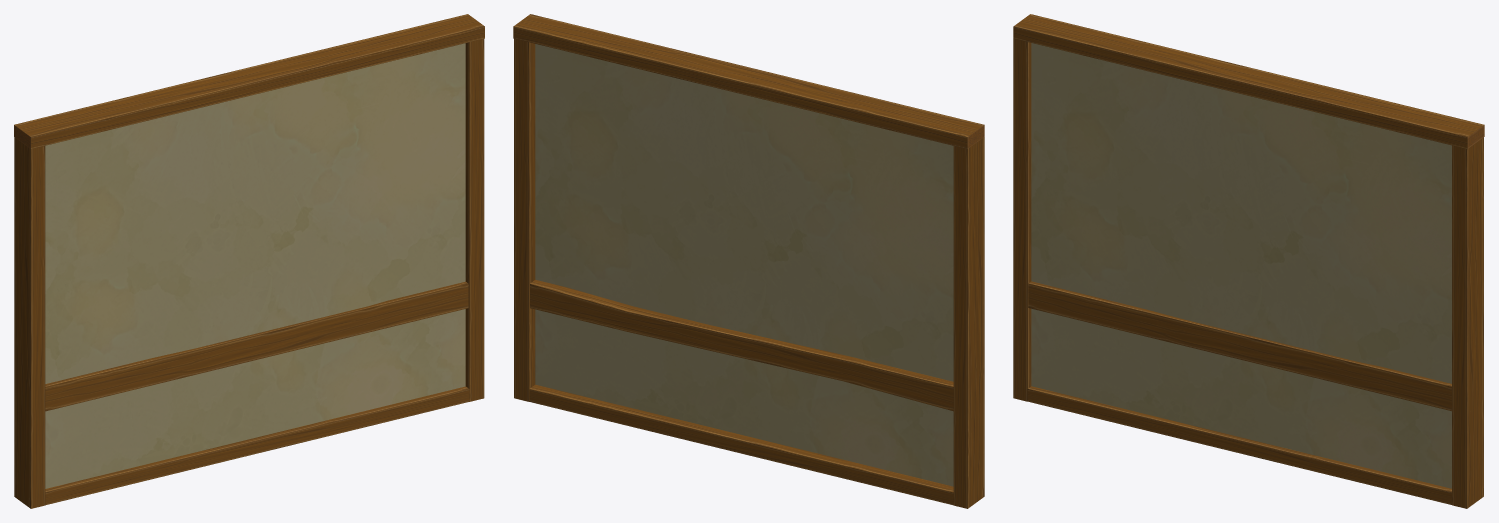
The model's file is SM_House_Wall_Interior_A_01.fbx.
3 views of the same model, side by side, from view 1: azimuth 30°, elevation 25°; view 2: azimuth 150°, elevation 25°; view 3: azimuth 330°, elevation 25° (orthographic).
Parts seen in each view (by area): view 1: SM_House_Wall_Interior_A_01; view 2: SM_House_Wall_Interior_A_01; view 3: SM_House_Wall_Interior_A_01.
Part boxes in pixels (left/top/right/bottom): SM_House_Wall_Interior_A_01: left=14, top=14, right=484, bottom=508; SM_House_Wall_Interior_A_01: left=513, top=14, right=984, bottom=508; SM_House_Wall_Interior_A_01: left=1013, top=14, right=1484, bottom=508.
Bounding box in the file's own units: 5 × 3.91 × 0.3241.
